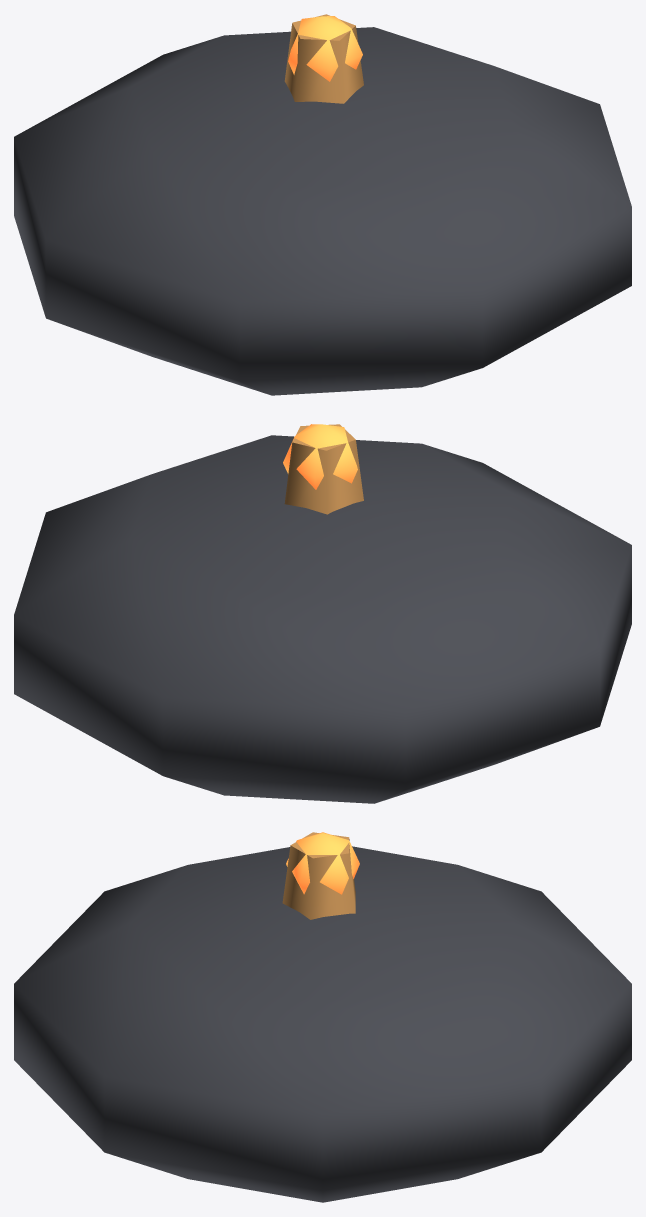
File: mine_pickup.glb
3 views of the same model, one above another, from view 1: azimuth 30°, elevation 25°; view 2: azimuth 150°, elevation 25°; view 3: azimuth 270°, elevation 25° (orthographic). The views are drawn at different scales.
Visible parts, largest first — view 1: shell, fuse, spark; view 2: shell, fuse, spark; view 3: shell, fuse, spark.
Boxes of the visible parts, x1,y1,x2,y2 form: shell: [14, 27, 631, 395]; fuse: [284, 14, 363, 103]; spark: [288, 16, 362, 81]; shell: [14, 435, 631, 803]; fuse: [284, 424, 363, 514]; spark: [283, 424, 357, 489]; shell: [14, 846, 631, 1202]; fuse: [282, 832, 355, 919]; spark: [286, 832, 359, 894].
Size of the model in its own units: 0.0951 by 0.053 by 0.0951.
